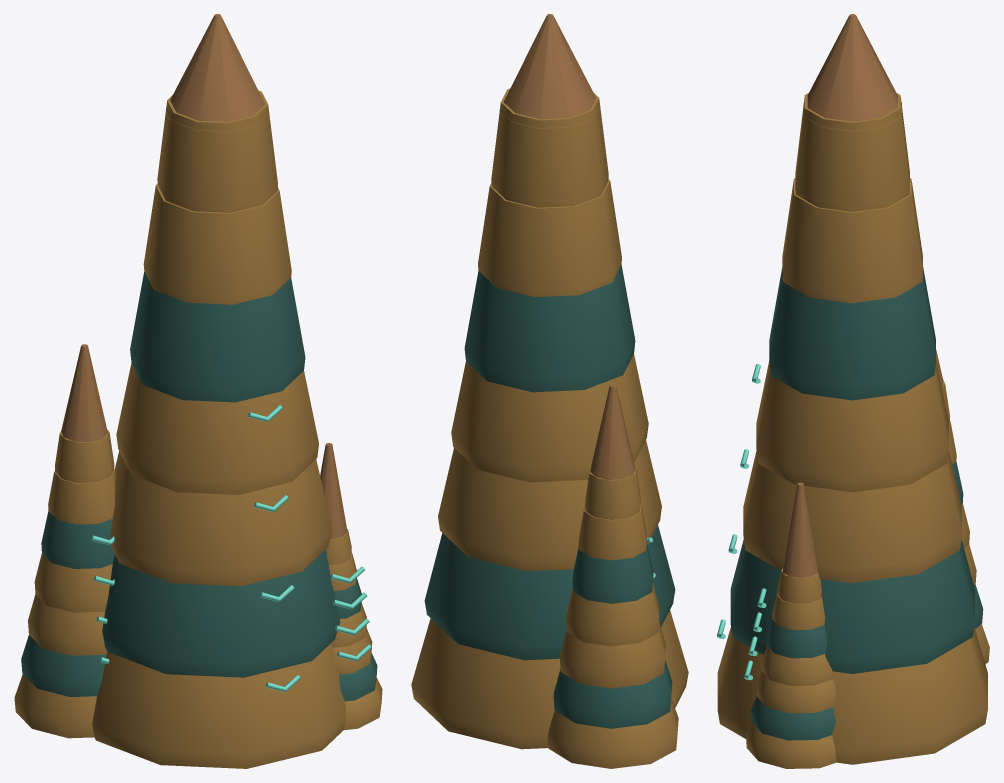
File: vista_kharon.glb
3 views of the same model, side by side, from view 1: azimuth 30°, elevation 25°; view 2: azimuth 150°, elevation 25°; view 3: azimuth 270°, elevation 25° (orthographic). The views are drawn at different scales.
Parts seen in each view (by area): view 1: vista_kharon; view 2: vista_kharon; view 3: vista_kharon.
Boxes of the visible parts, x1,y1,x2,y2 form: vista_kharon: (14, 14, 382, 768); vista_kharon: (411, 14, 688, 768); vista_kharon: (717, 14, 989, 768).
Bounding box in the file's own units: 14.66 × 33.6 × 12.04.
